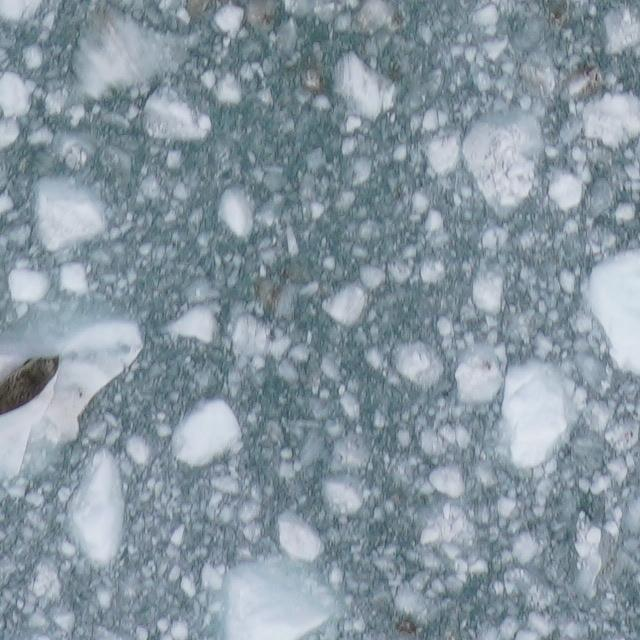seal: (0, 352, 63, 419)
